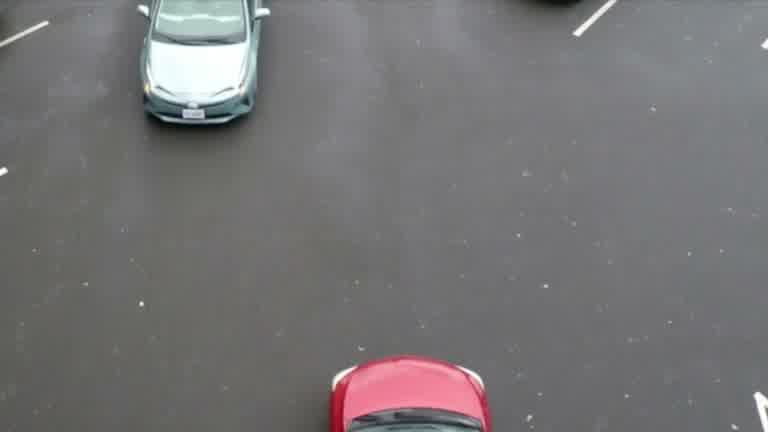car: (119, 1, 292, 150), (306, 340, 498, 432)
